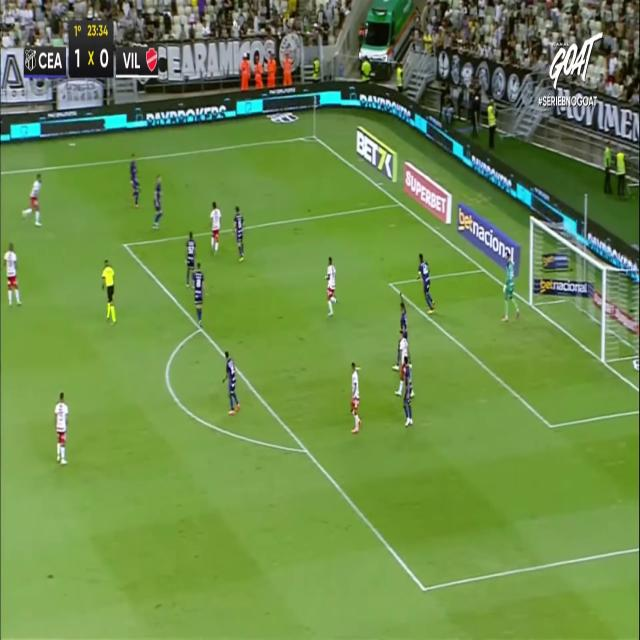goalkeeper: (502, 253, 520, 321)
player: (399, 354, 416, 425), (3, 242, 21, 307), (416, 253, 435, 314), (222, 351, 240, 414), (53, 391, 68, 464), (21, 173, 42, 225), (194, 257, 207, 330), (396, 329, 409, 396), (350, 361, 361, 432), (325, 256, 337, 316), (185, 230, 197, 289), (233, 204, 245, 261), (129, 153, 140, 208), (210, 201, 221, 254), (399, 297, 407, 369), (152, 174, 162, 228)
referee: (101, 258, 116, 323)
